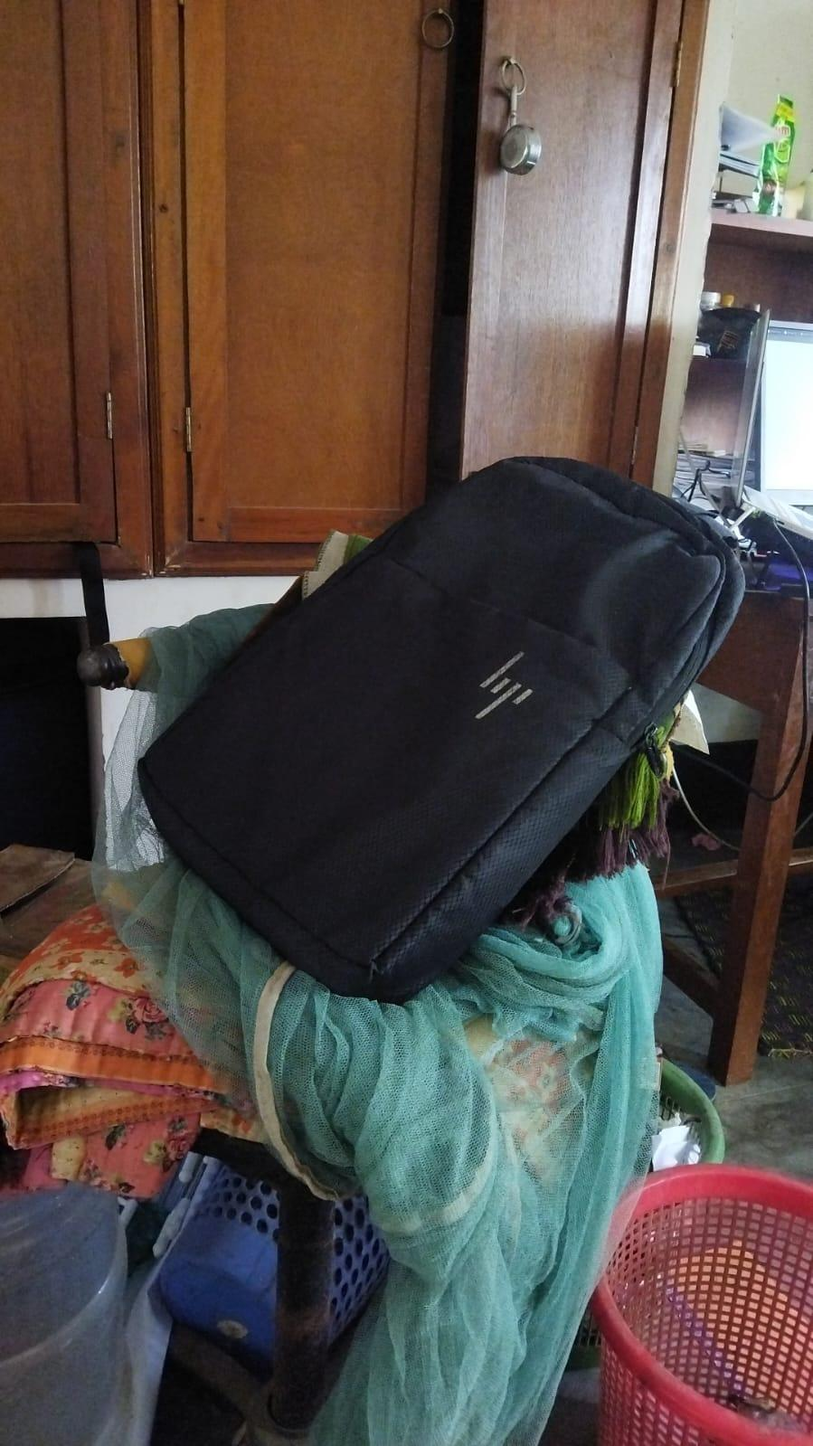Bag: (124, 472, 724, 991)
Basket: (600, 1154, 813, 1444), (191, 1146, 371, 1362)
Lock: (495, 50, 548, 185)
